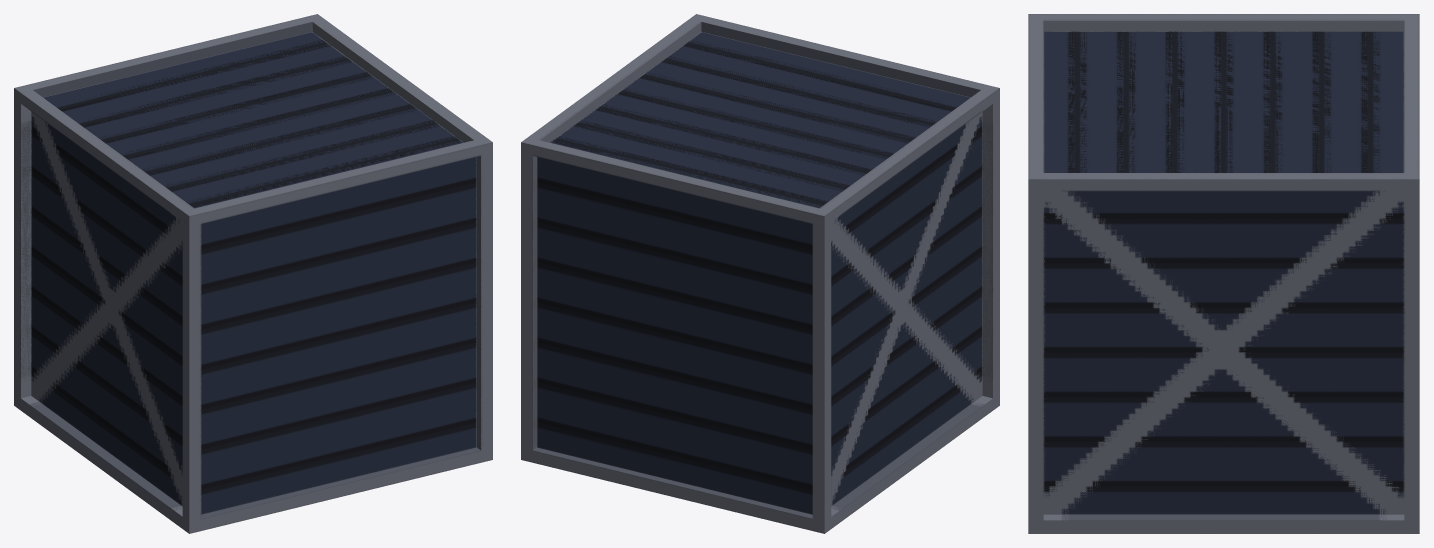
The model's file is crate.fbx.
3 views of the same model, side by side, from view 1: azimuth 30°, elevation 25°; view 2: azimuth 150°, elevation 25°; view 3: azimuth 270°, elevation 25° (orthographic). The views are drawn at different scales.
Parts seen in each view (by area): view 1: Cube; view 2: Cube; view 3: Cube.
Boxes of the visible parts, left/top/right/bottom form: Cube: left=14, top=14, right=492, bottom=533; Cube: left=521, top=14, right=999, bottom=533; Cube: left=1028, top=14, right=1419, bottom=533.
Size of the model in its own units: 200 by 200 by 200.
Materials: 1 (1 with a texture image).
